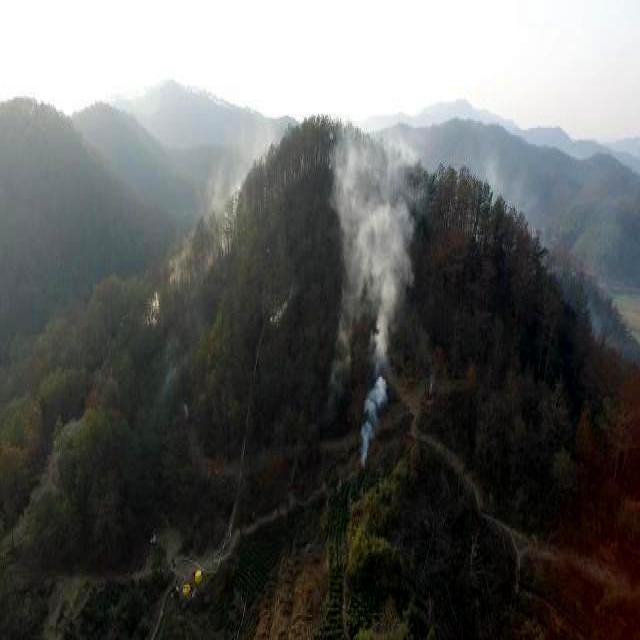Smoke: (324, 120, 426, 444), (137, 152, 255, 328)
